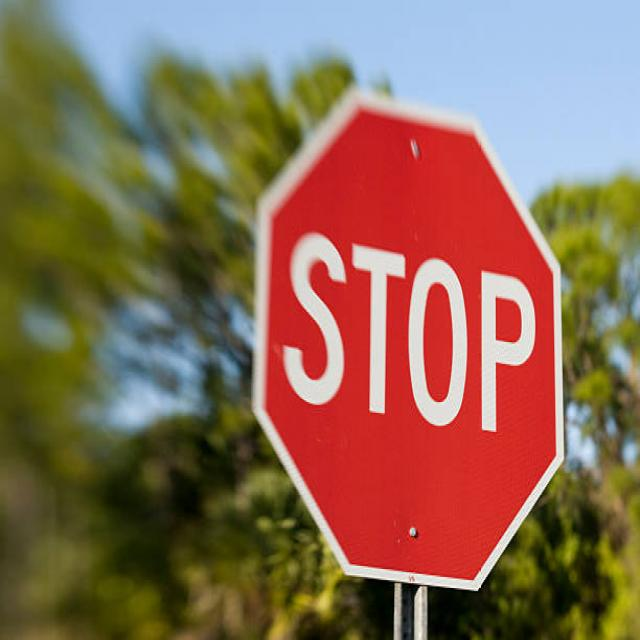stop: (249, 91, 571, 588)
